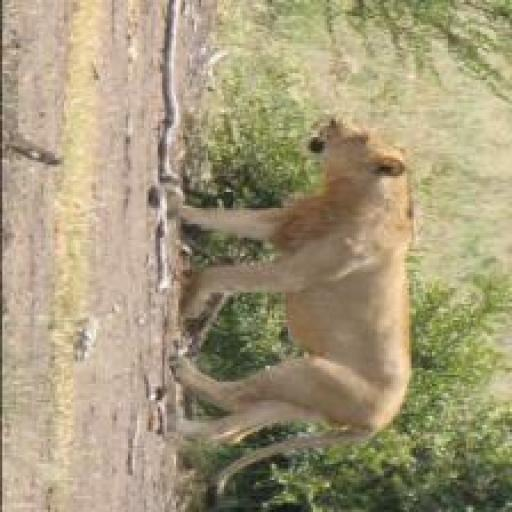lion: (153, 105, 429, 512)
